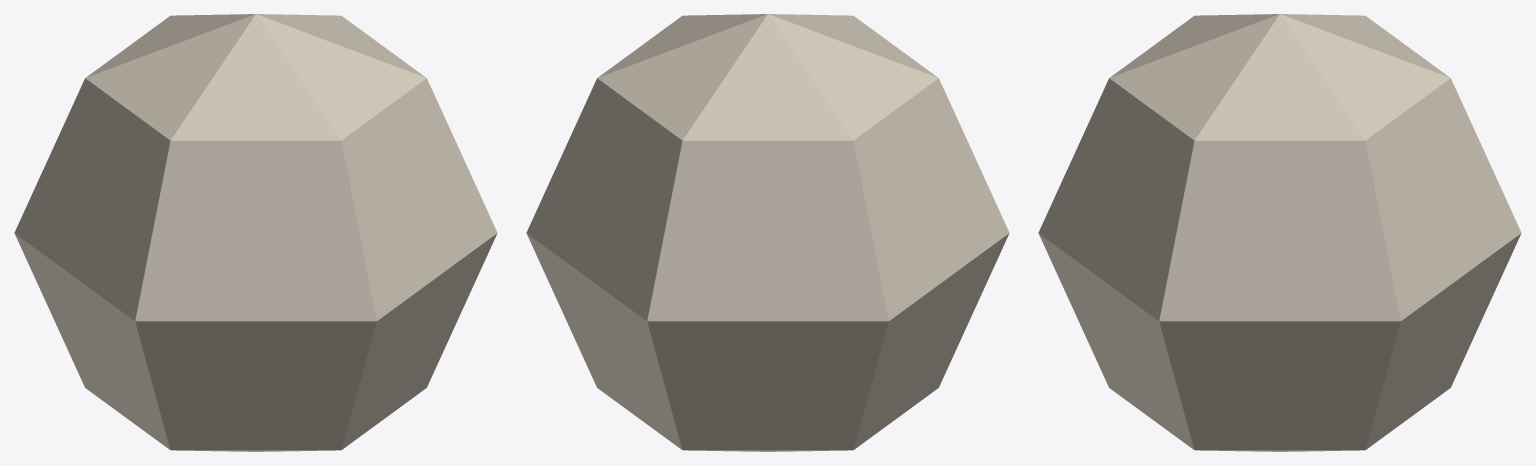
The model's file is puff.glb.
3 views of the same model, side by side, from view 1: azimuth 30°, elevation 25°; view 2: azimuth 150°, elevation 25°; view 3: azimuth 270°, elevation 25° (orthographic).
Visible parts, largest first — view 1: puff; view 2: puff; view 3: puff.
Boxes of the visible parts, left/top/right/bottom form: puff: left=14, top=14, right=497, bottom=451; puff: left=526, top=14, right=1009, bottom=451; puff: left=1038, top=14, right=1521, bottom=451.
Bounding box in the file's own units: 0.7794 × 0.9 × 0.9.
